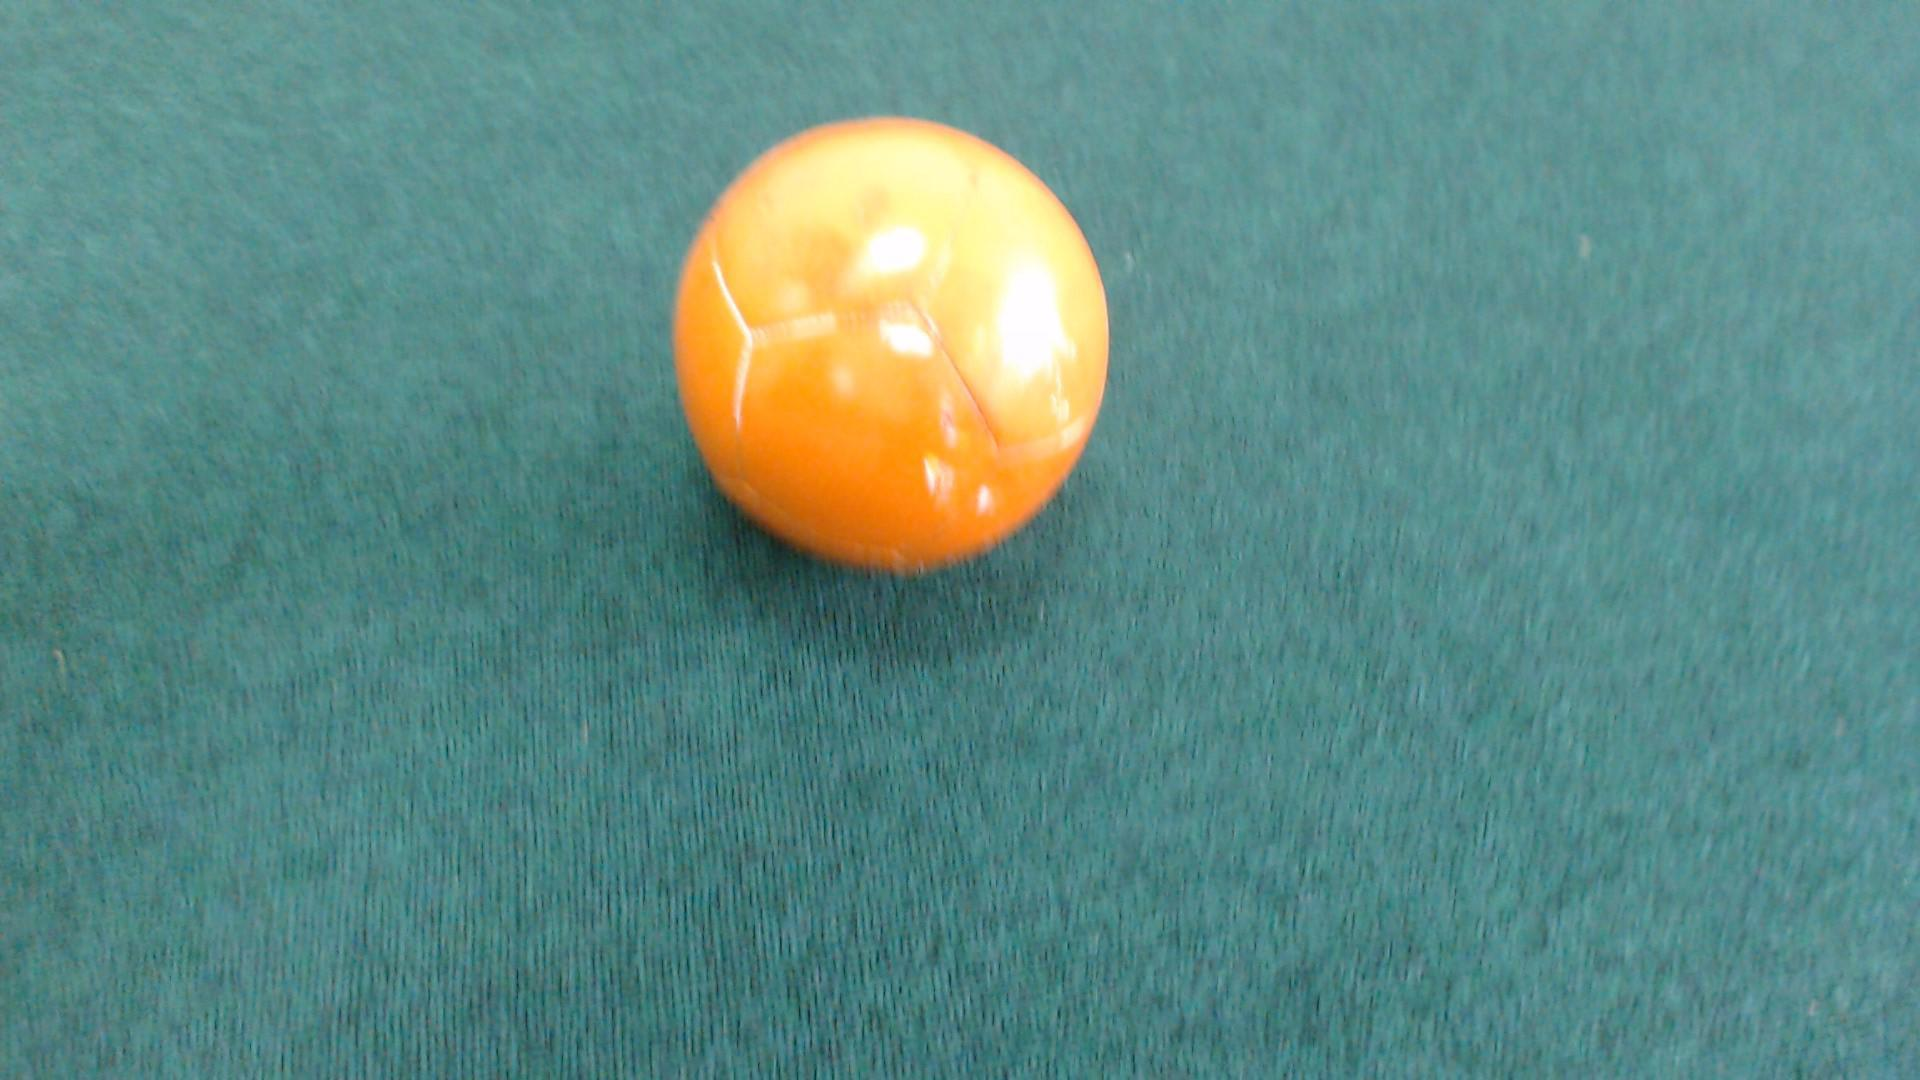bola: (628, 104, 1143, 595)
